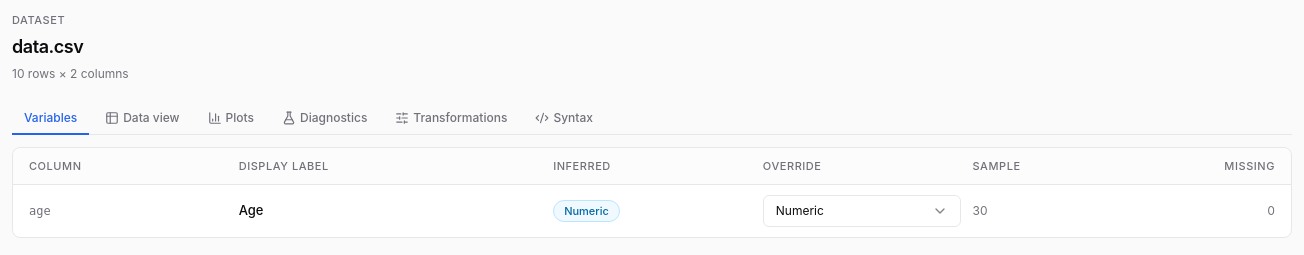
DatasetDetail — tabbed layout › switches to the Transformations tab when clicked
Click the tab with test id "tab-transformations".
click(451, 118)  # box [383,102,519,134]
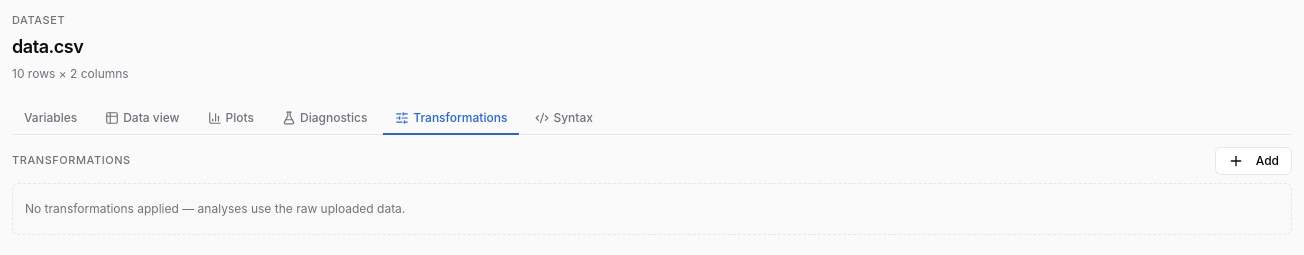
Result: the element with test id "dataset-detail-panel-transformations" is shown at [12,146,1292,234]
